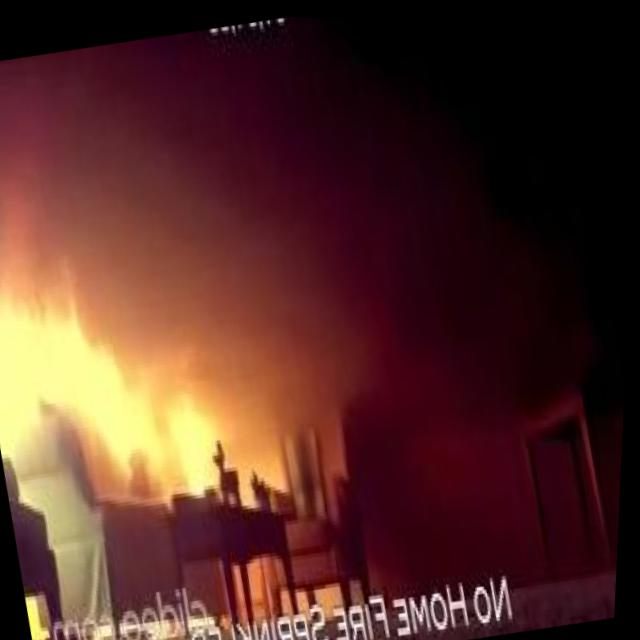fire: (0, 258, 164, 450), (73, 325, 178, 471), (160, 382, 231, 490)
